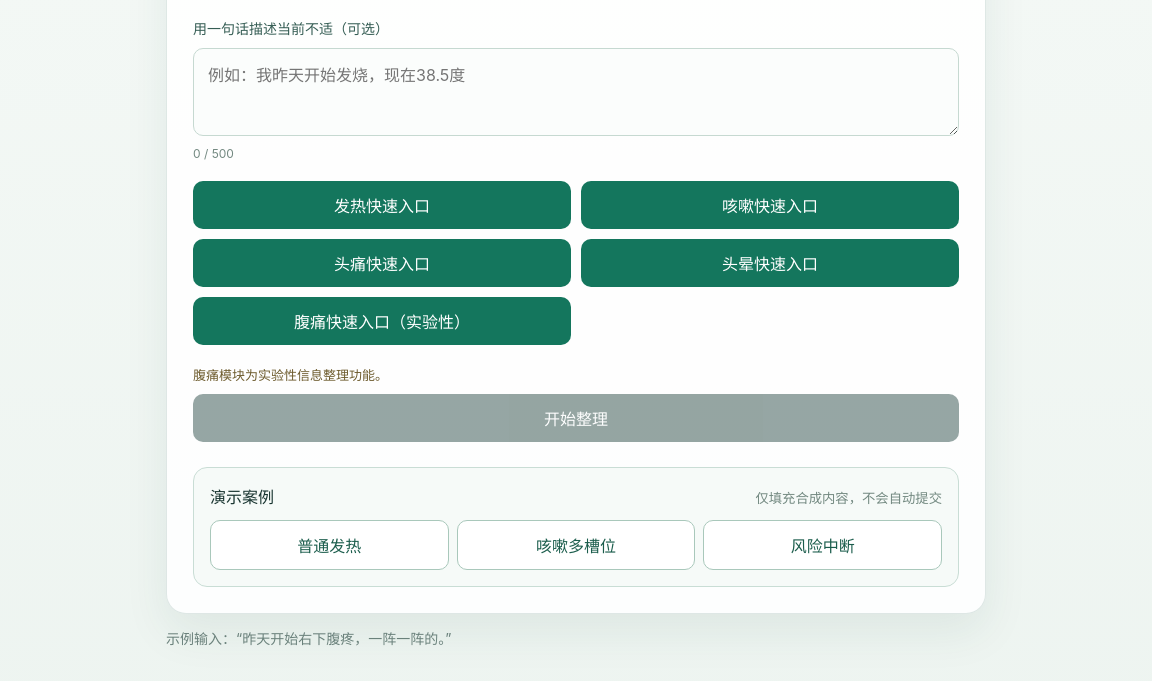
Test: 腹痛槽位、摘要、Mock与真实Provider边界 › 静态页面显示实验性入口且不显示胸部不适入口
The width and height of the screenshot is (1152, 681).
(page scrolled)
Expected: the text "腹痛模块为实验性信息整理功能。" is shown, top-left (193, 367), bottom-right (388, 383)
Click the button "腹痛快速入口（实验性）". click: (382, 321)
box: top-left (193, 297), bottom-right (571, 345)
(page scrolled)
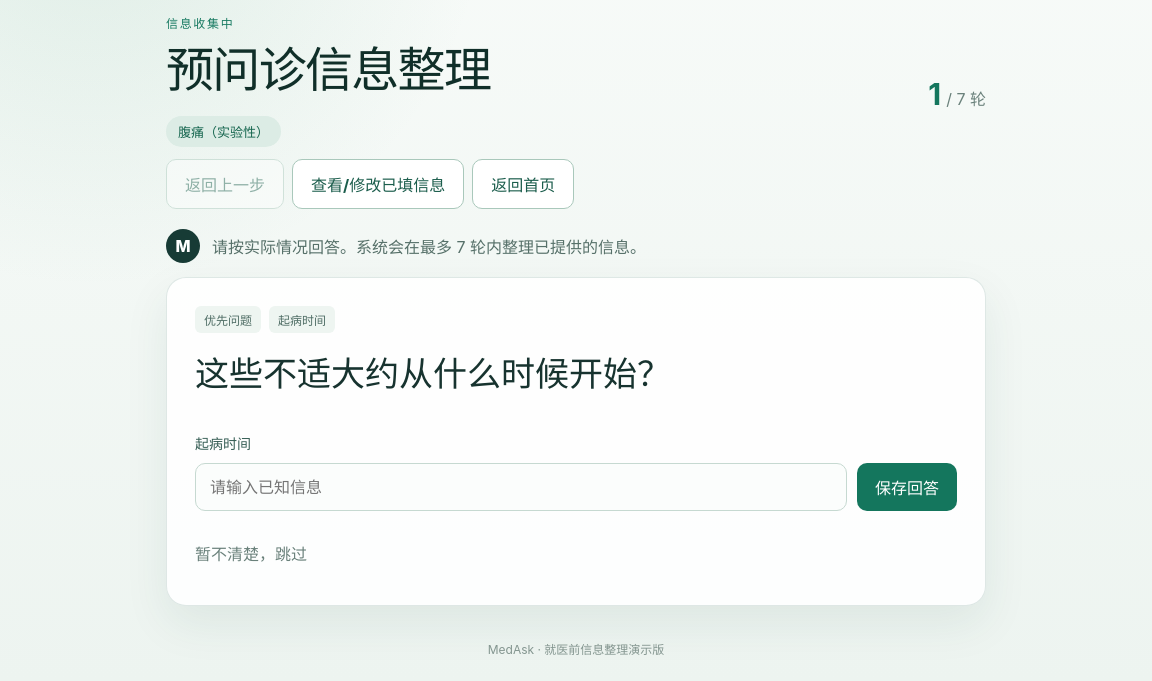
Expected: the text "腹痛（实验性）" is shown, top-left (166, 116), bottom-right (281, 147)
